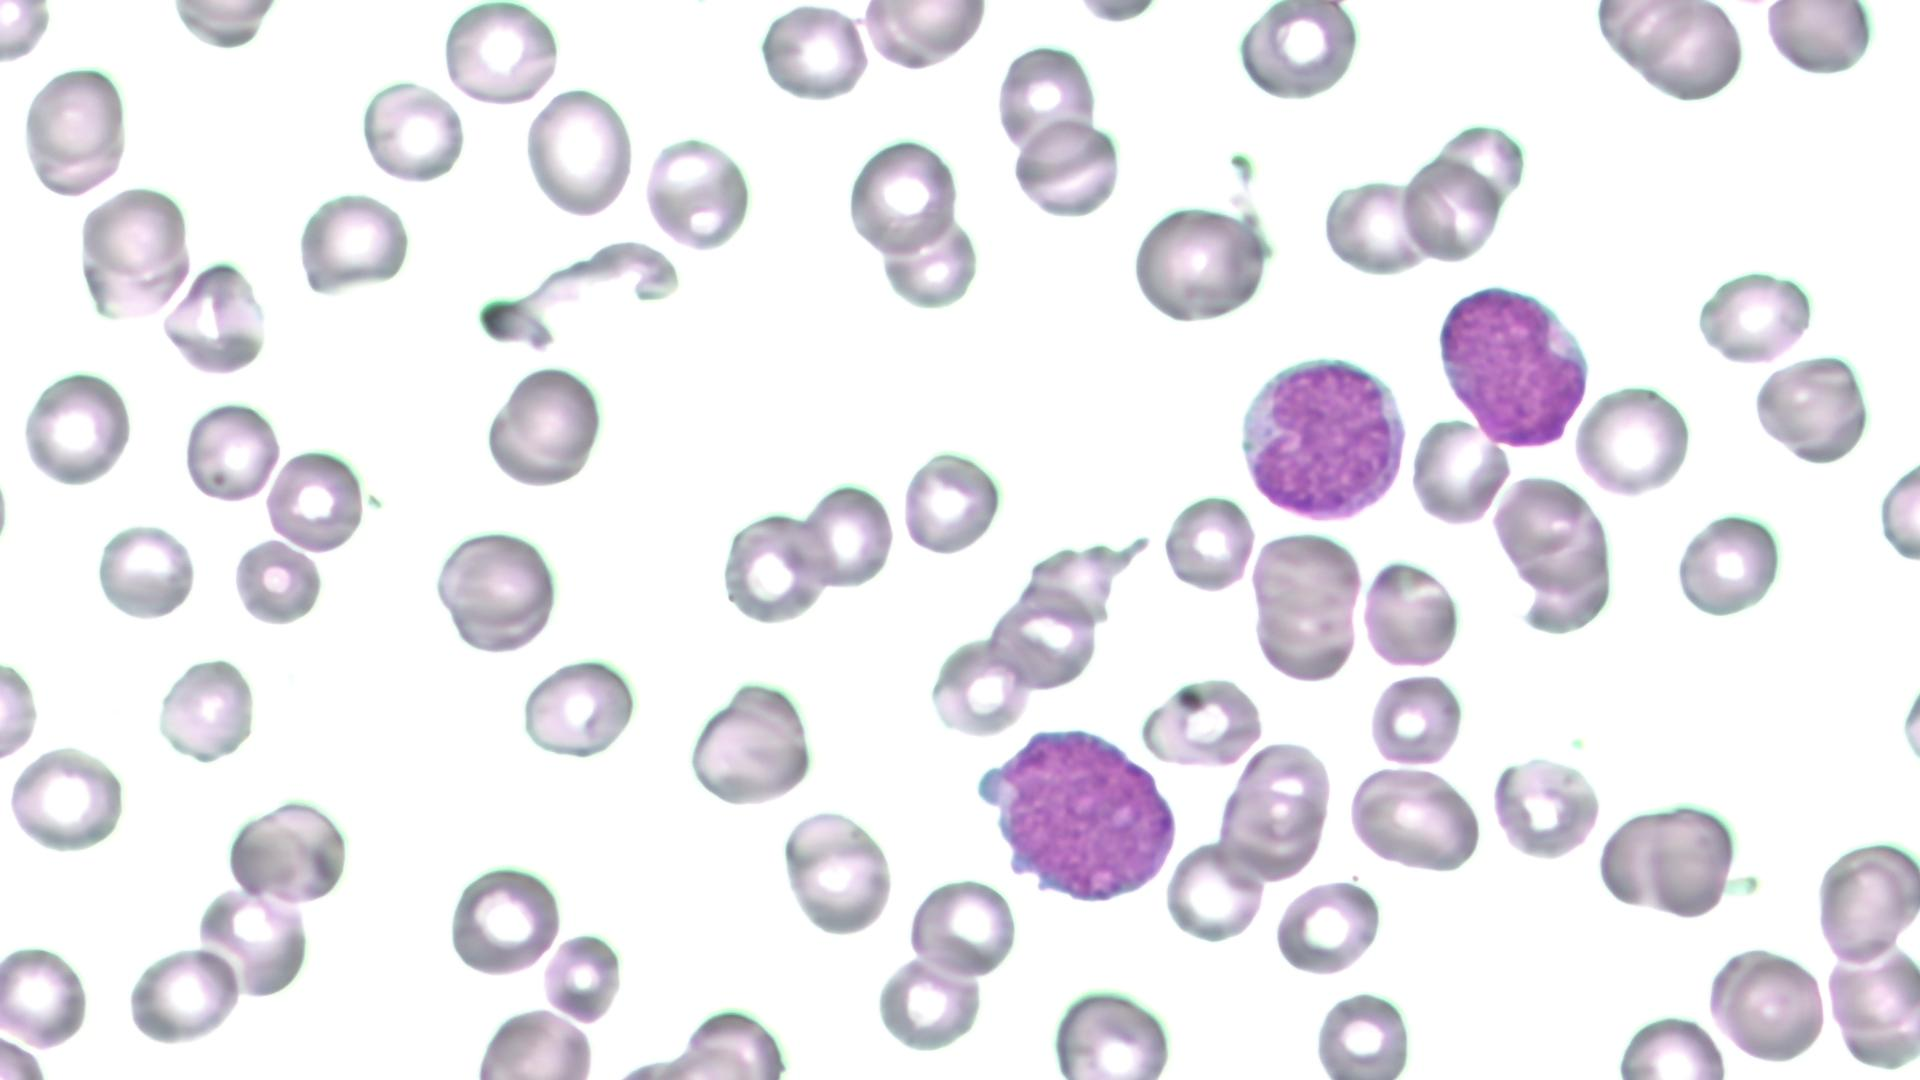RBC: (1130, 200, 1269, 327), (1247, 527, 1365, 675), (684, 682, 816, 808), (433, 524, 560, 645), (525, 83, 636, 222), (1598, 1, 1745, 105), (487, 360, 604, 489), (1708, 942, 1828, 1065), (1491, 473, 1610, 599), (778, 808, 891, 939), (1346, 765, 1480, 874), (1572, 380, 1692, 500), (844, 135, 960, 258), (22, 62, 129, 196), (1625, 800, 1749, 915), (228, 794, 353, 907), (444, 860, 560, 978), (194, 884, 313, 998), (18, 367, 131, 488), (719, 505, 829, 626), (5, 744, 127, 855), (440, 0, 562, 109), (1815, 839, 1917, 967), (1234, 3, 1364, 104), (1749, 356, 1873, 462), (642, 132, 752, 251), (160, 257, 266, 378), (520, 655, 641, 761), (1489, 748, 1600, 862), (1673, 508, 1785, 620), (993, 41, 1098, 160), (1408, 414, 1514, 531), (297, 189, 410, 297), (1360, 554, 1462, 673), (1826, 943, 1920, 1072), (124, 944, 243, 1046), (1046, 984, 1176, 1076), (1696, 269, 1822, 363), (907, 874, 1021, 978), (757, 1, 872, 104), (1142, 675, 1265, 770), (988, 587, 1098, 691), (1009, 117, 1124, 218), (153, 658, 258, 766), (359, 76, 464, 185), (262, 446, 365, 556), (1271, 876, 1382, 978), (1400, 152, 1502, 262), (898, 450, 1004, 555), (1317, 175, 1425, 278), (182, 396, 282, 506), (799, 477, 895, 591), (1162, 839, 1265, 944), (872, 957, 985, 1052), (926, 637, 1033, 737), (0, 938, 92, 1052), (79, 185, 190, 280), (1229, 740, 1333, 837), (1220, 782, 1324, 880), (471, 1001, 600, 1079), (96, 521, 196, 621), (876, 216, 982, 310), (1160, 492, 1255, 593), (1758, 3, 1875, 82), (1367, 671, 1462, 767), (232, 537, 324, 630), (1436, 120, 1528, 208), (1610, 1011, 1726, 1077), (873, 1, 988, 61), (1514, 578, 1610, 638), (1873, 448, 1920, 568), (1, 644, 40, 770), (1, 1, 55, 69), (1065, 0, 1160, 26), (1899, 680, 1920, 771)
WBC: (973, 723, 1183, 909), (1238, 344, 1416, 525), (1433, 278, 1600, 450)
